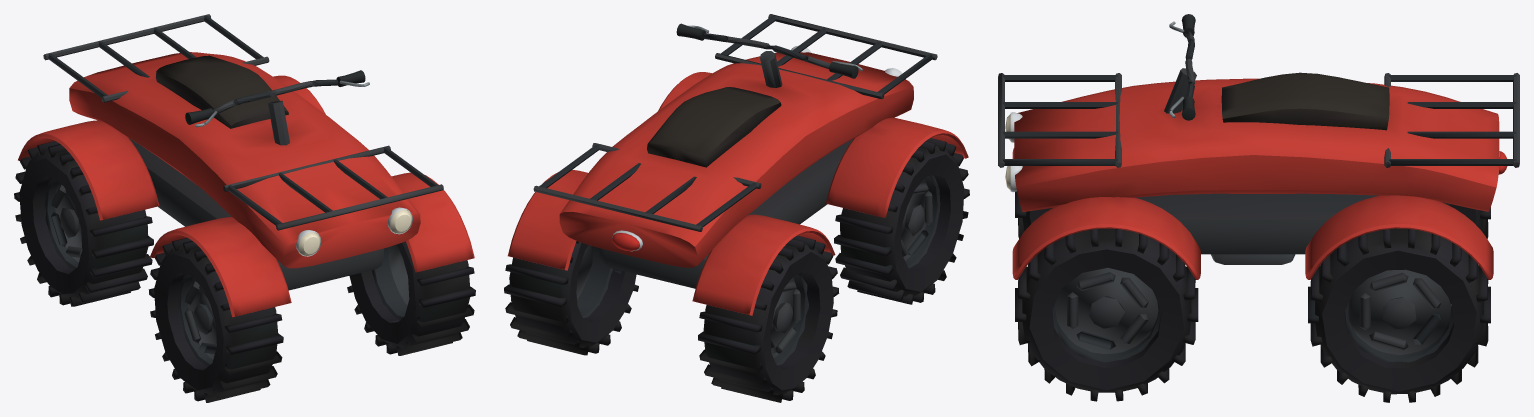
Rendered from veh-quadBike.glb.
3 renders of one model, left to right at view 1: azimuth 30°, elevation 25°; view 2: azimuth 150°, elevation 25°; view 3: azimuth 270°, elevation 25°, orthographic. The views are drawn at different scales.
Visible parts, largest first — view 1: body, wheel2, wheel0, wheel1; view 2: body, wheel2, wheel0, wheel3; view 3: body, wheel3, wheel1, wheel2, wheel0.
Part boxes in pixels (bbox=[...]): body: bbox=[18, 14, 474, 317]; wheel2: bbox=[14, 141, 153, 306]; wheel0: bbox=[148, 237, 283, 402]; wheel1: bbox=[347, 241, 475, 355]; body: bbox=[507, 14, 968, 315]; wheel2: bbox=[698, 235, 839, 402]; wheel0: bbox=[834, 138, 969, 304]; wheel3: bbox=[504, 241, 638, 355]; body: bbox=[998, 14, 1519, 279]; wheel3: bbox=[1308, 228, 1490, 402]; wheel1: bbox=[1015, 228, 1198, 401]; wheel2: bbox=[1443, 202, 1490, 238]; wheel0: bbox=[1015, 191, 1052, 238].
Size of the model in its own units: 1.1 by 1.04 by 1.78.
